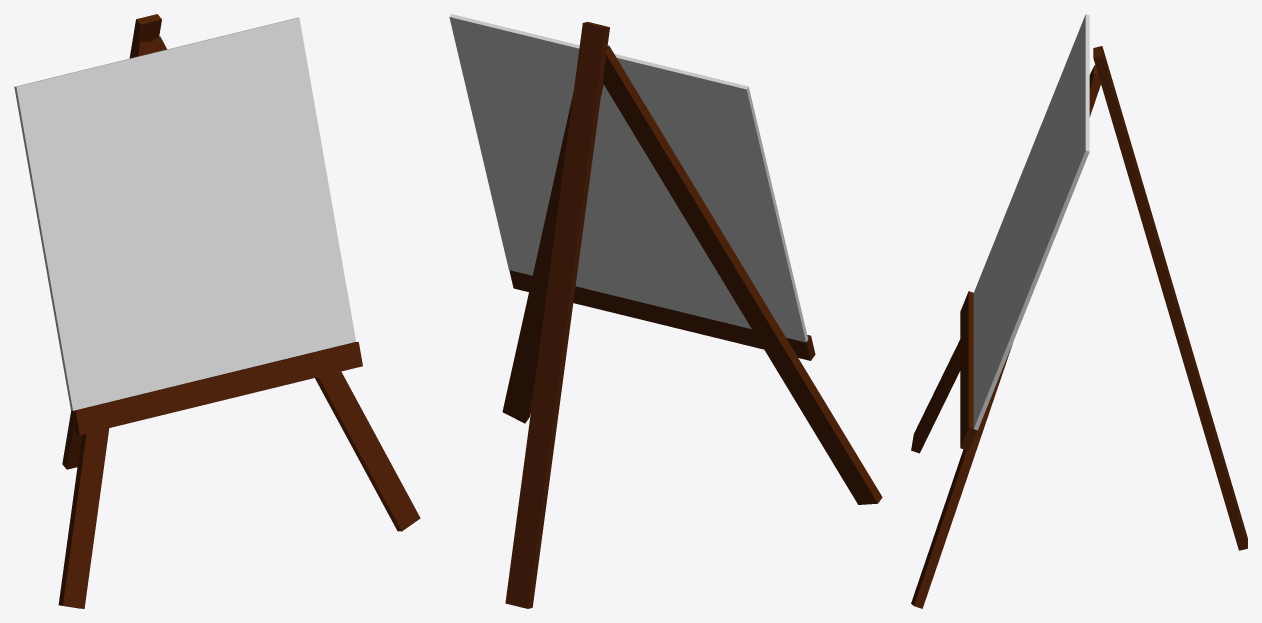
File: Canvas.FBX
3 renders of one model, left to right at view 1: azimuth 30°, elevation 25°; view 2: azimuth 150°, elevation 25°; view 3: azimuth 270°, elevation 25°, orthographic. The views are drawn at different scales.
Parts seen in each view (by area): view 1: canvas, canvas_support; view 2: canvas, canvas_support; view 3: canvas, canvas_support.
Part boxes in pixels (x1,y1,x2,y2): canvas: (14, 17, 355, 410); canvas_support: (58, 14, 420, 608); canvas: (449, 14, 808, 342); canvas_support: (502, 21, 882, 608); canvas: (973, 14, 1089, 430); canvas_support: (911, 46, 1247, 608).
Bounding box in the file's own units: 63.7 × 85.28 × 52.65.
